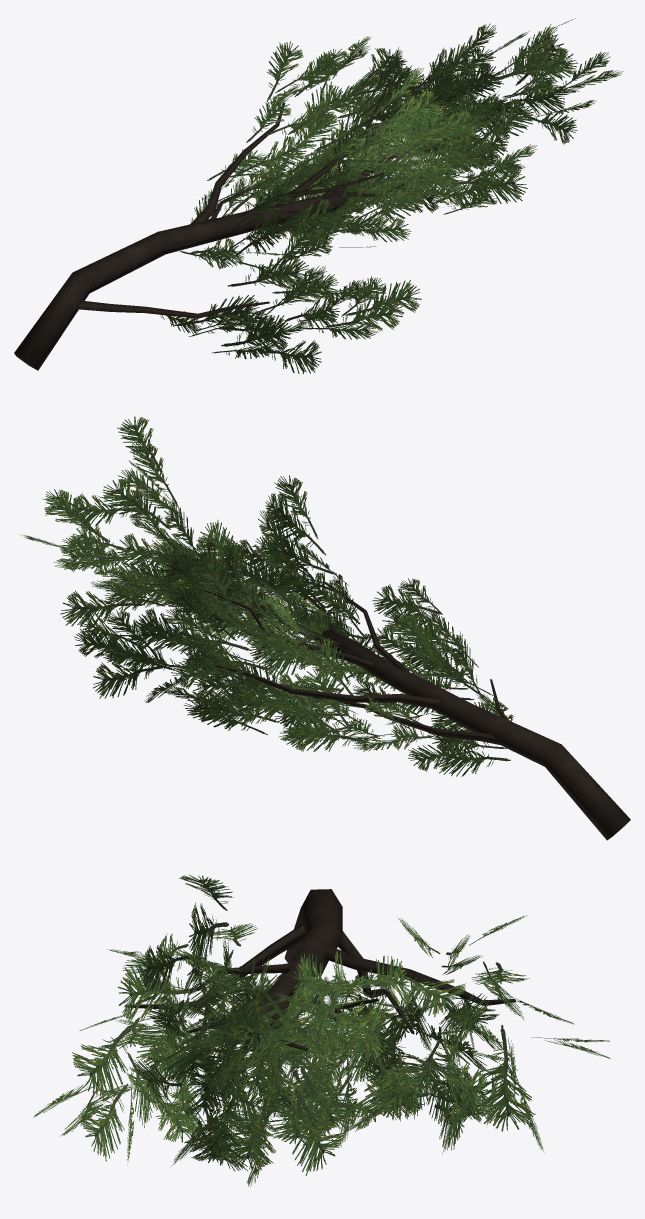
Rendered from krummholz_pine_v01_LOD2.fbx.
The picture shows the model from 3 angles, top to bottom: view 1: azimuth 30°, elevation 25°; view 2: azimuth 150°, elevation 25°; view 3: azimuth 270°, elevation 25°; orthographic projection. The views are drawn at different scales.
Parts seen in each view (by area): view 1: krummholz_pine_v01_LOD2; view 2: krummholz_pine_v01_LOD2; view 3: krummholz_pine_v01_LOD2.
Boxes of the visible parts, x1,y1,x2,y2 form: krummholz_pine_v01_LOD2: [14, 18, 623, 373]; krummholz_pine_v01_LOD2: [23, 416, 630, 840]; krummholz_pine_v01_LOD2: [33, 875, 610, 1186].
Size of the model in its own units: 399 by 234 by 183.
Materials: 2 (2 with a texture image).
